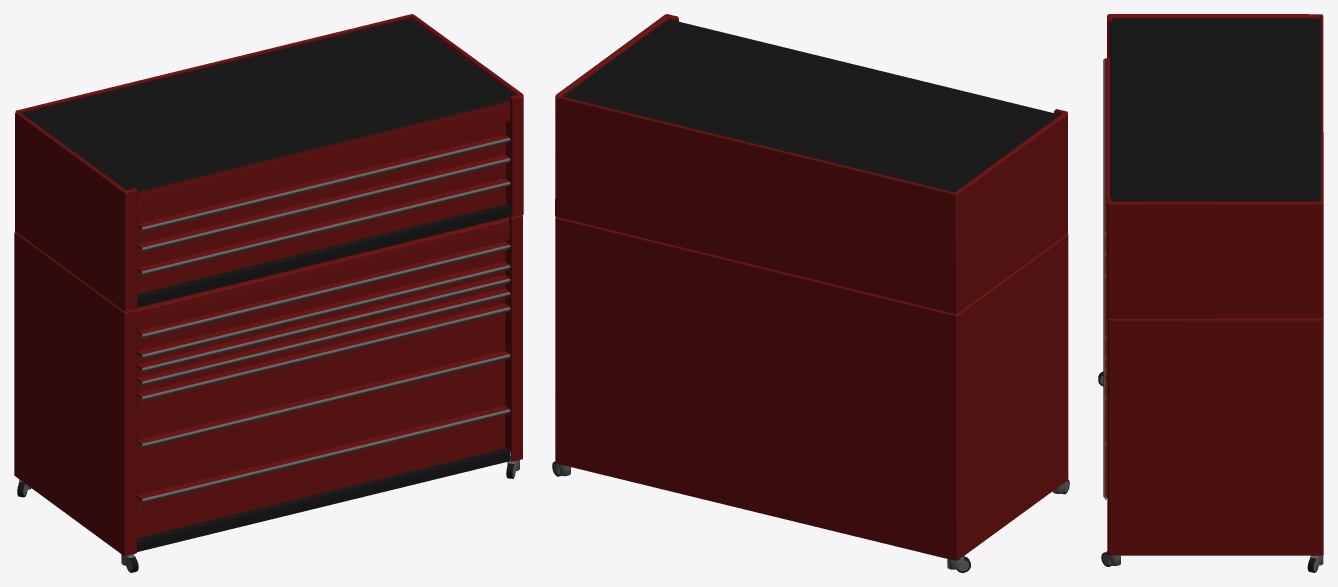
File: SeanElston_WorkChest_Tall_Unwrapped.fbx
3 views of the same model, side by side, from view 1: azimuth 30°, elevation 25°; view 2: azimuth 150°, elevation 25°; view 3: azimuth 270°, elevation 25° (orthographic). The views are drawn at different scales.
Visible parts, largest first — view 1: ToolBox_Tall; view 2: ToolBox_Tall; view 3: ToolBox_Tall.
Boxes of the visible parts, <box> form: ToolBox_Tall: <box>14,14,523,572</box>; ToolBox_Tall: <box>552,14,1069,572</box>; ToolBox_Tall: <box>1098,14,1323,572</box>.
Bounding box in the file's own units: 197 × 174 × 96.25.
